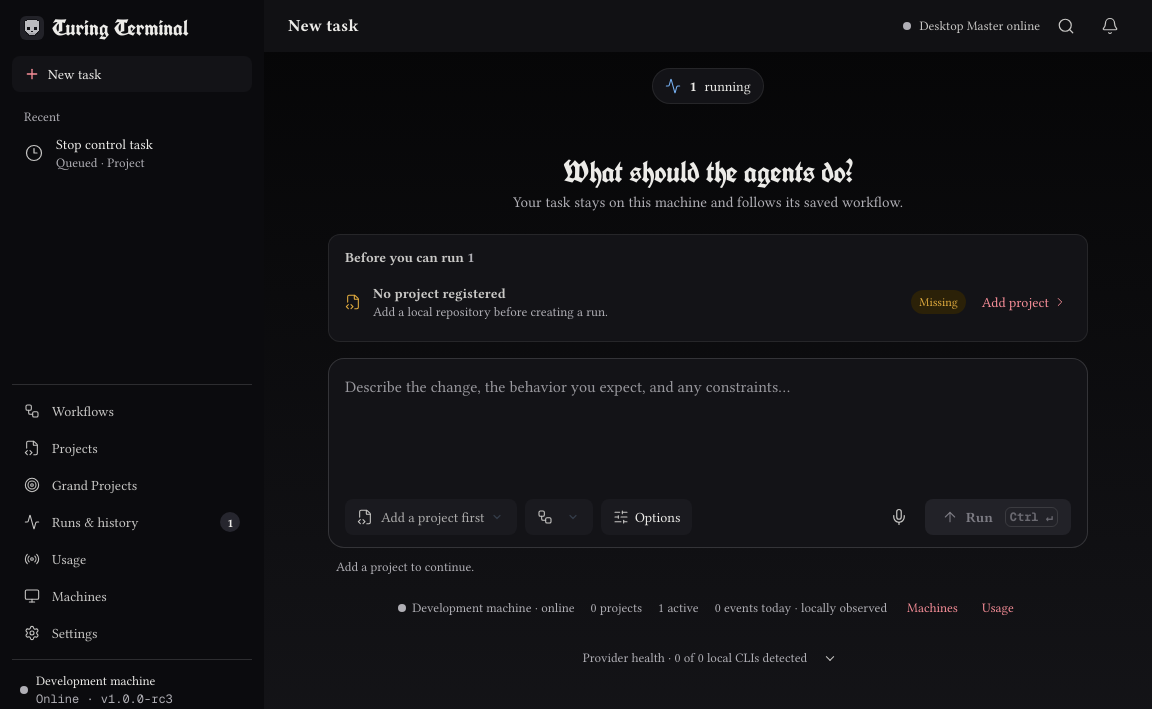
Test case: Turing Terminal shell › Stop control › hides Stop for an active run the server marks not cancellable
Click the button "Stop control task Queued · Project" at (132, 153), box [12,130,252,176]
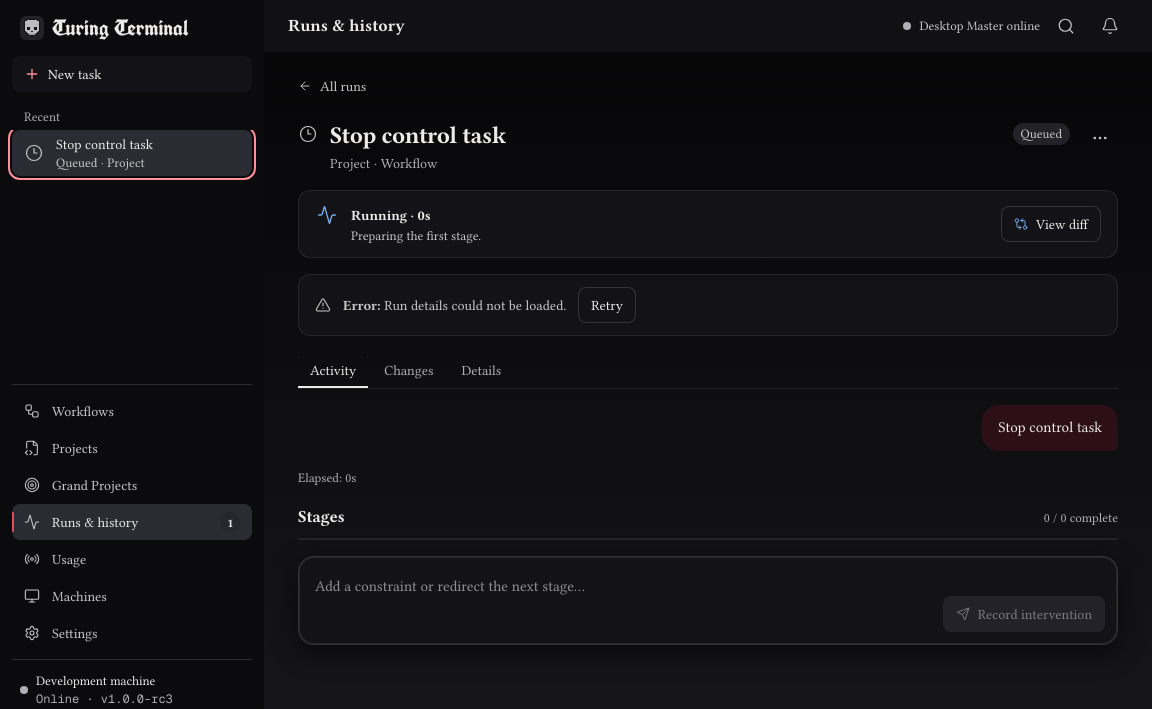
Check: the button "All runs" is shown, box [290,68,374,104]
